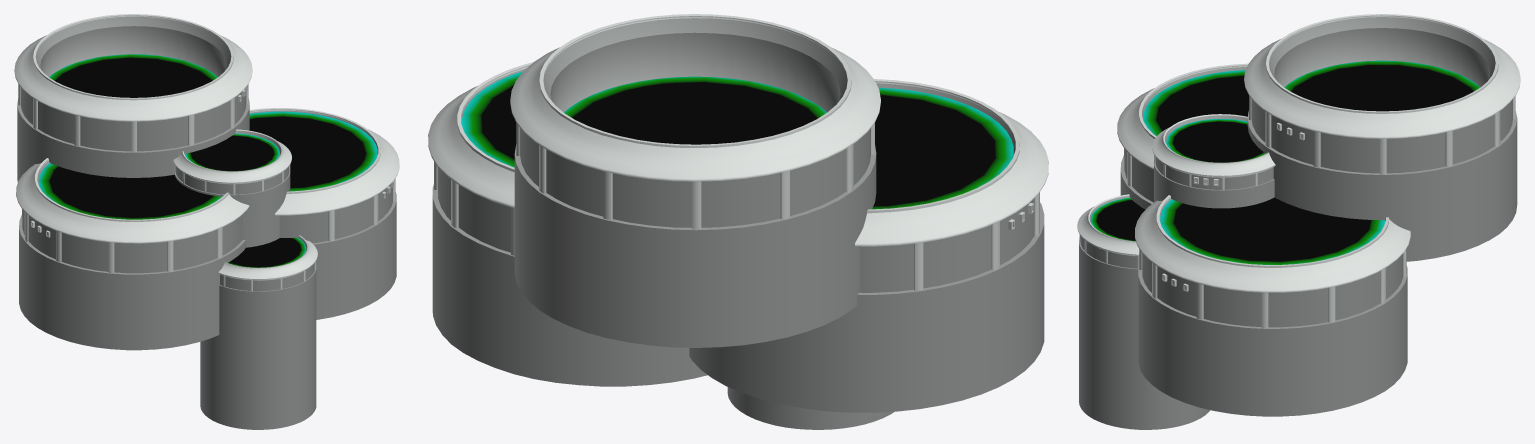
The picture shows the model from 3 angles, left to right: view 1: azimuth 30°, elevation 25°; view 2: azimuth 150°, elevation 25°; view 3: azimuth 270°, elevation 25°; orthographic projection. The views are drawn at different scales.
Parts seen in each view (by area): view 1: G:\FFXIV-MapTools\exports\e3f2\bg\ex2\02_est_e3\fld\e3f2\bgp (×7); view 2: G:\FFXIV-MapTools\exports\e3f2\bg\ex2\02_est_e3\fld\e3f2\bgp (×6); view 3: G:\FFXIV-MapTools\exports\e3f2\bg\ex2\02_est_e3\fld\e3f2\bgp (×8).
Boxes of the visible parts, x1,y1,x2,y2 form: G:\FFXIV-MapTools\exports\e3f2\bg\ex2\02_est_e3\fld\e3f2\bgp (×7): [14, 14, 399, 429]; G:\FFXIV-MapTools\exports\e3f2\bg\ex2\02_est_e3\fld\e3f2\bgp (×6): [428, 14, 1048, 429]; G:\FFXIV-MapTools\exports\e3f2\bg\ex2\02_est_e3\fld\e3f2\bgp (×8): [1077, 14, 1520, 429].
Size of the model in its own units: 481 by 358 by 443.
